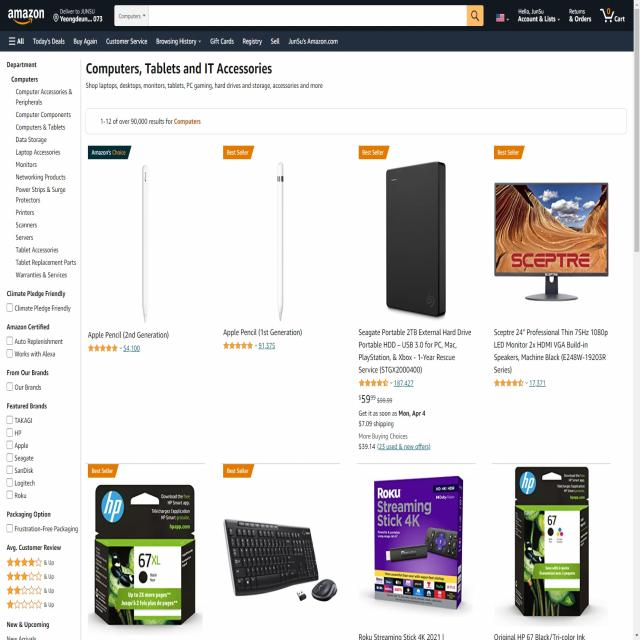menu-bar: (3, 31, 342, 49)
search: (111, 2, 485, 27)
